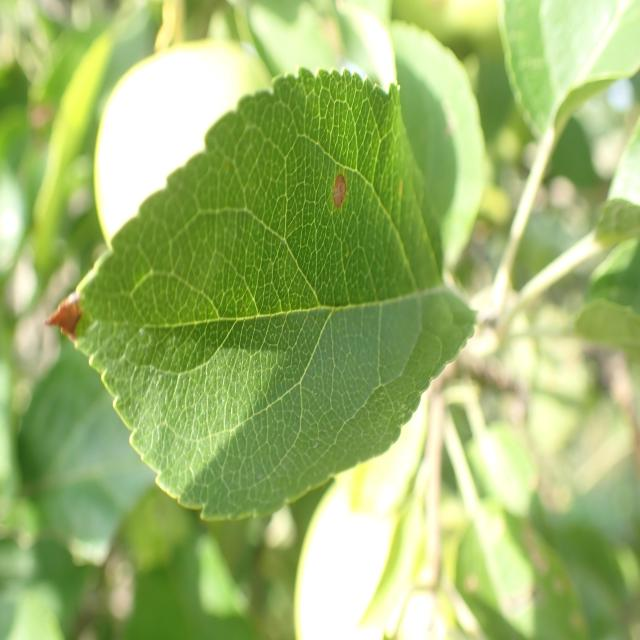Black Rot: (33, 272, 88, 369), (322, 145, 361, 218)
